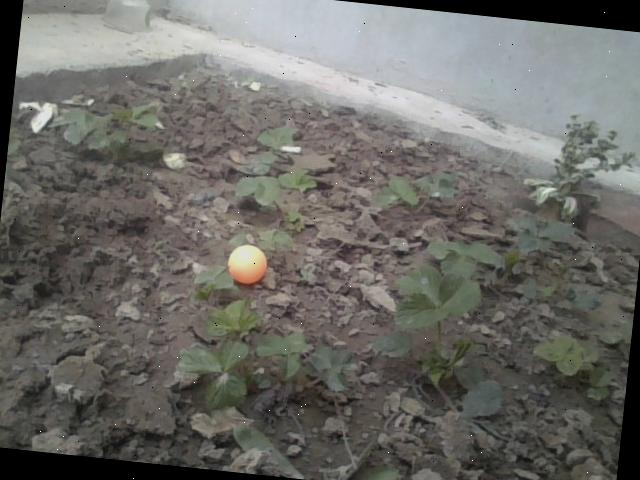ball: (226, 246, 268, 286)
